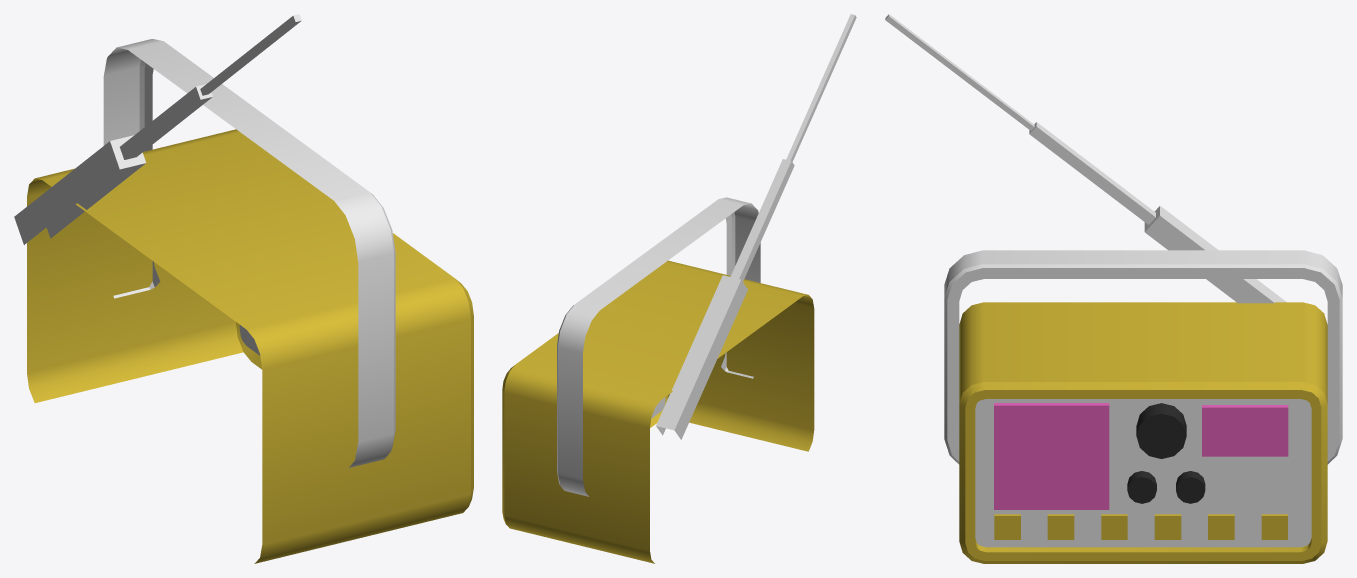
Rendered from mesh_Radio.fbx.
The picture shows the model from 3 angles, left to right: view 1: azimuth 30°, elevation 25°; view 2: azimuth 150°, elevation 25°; view 3: azimuth 270°, elevation 25°; orthographic projection. The views are drawn at different scales.
Visible parts, largest first — view 1: Radio; view 2: Radio; view 3: Radio.
Part boxes in pixels (x1=…): Radio: x1=14, y1=14, x2=473, y2=563; Radio: x1=502, y1=14, x2=856, y2=563; Radio: x1=885, y1=14, x2=1342, y2=563.
Bounding box in the file's own units: 43.89 × 98 × 87.31.
